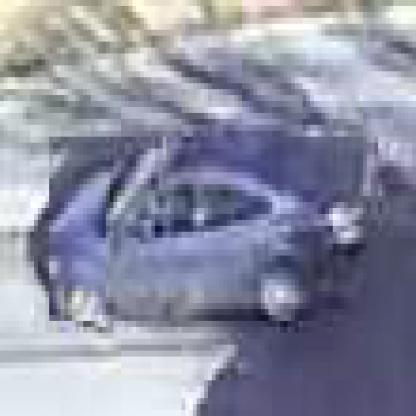car: (50, 138, 383, 328)
